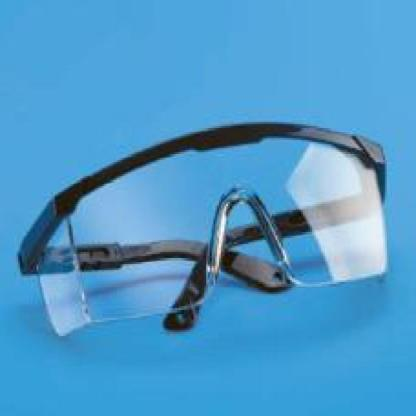oculos: (18, 114, 394, 368)
